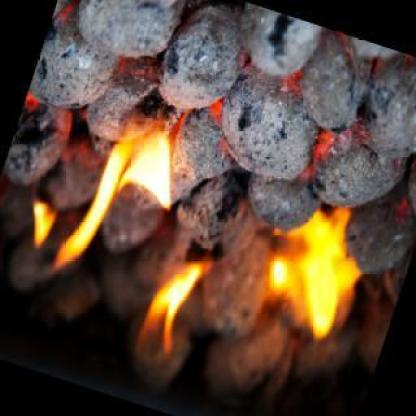Fire: (28, 106, 217, 373), (265, 205, 363, 336)
